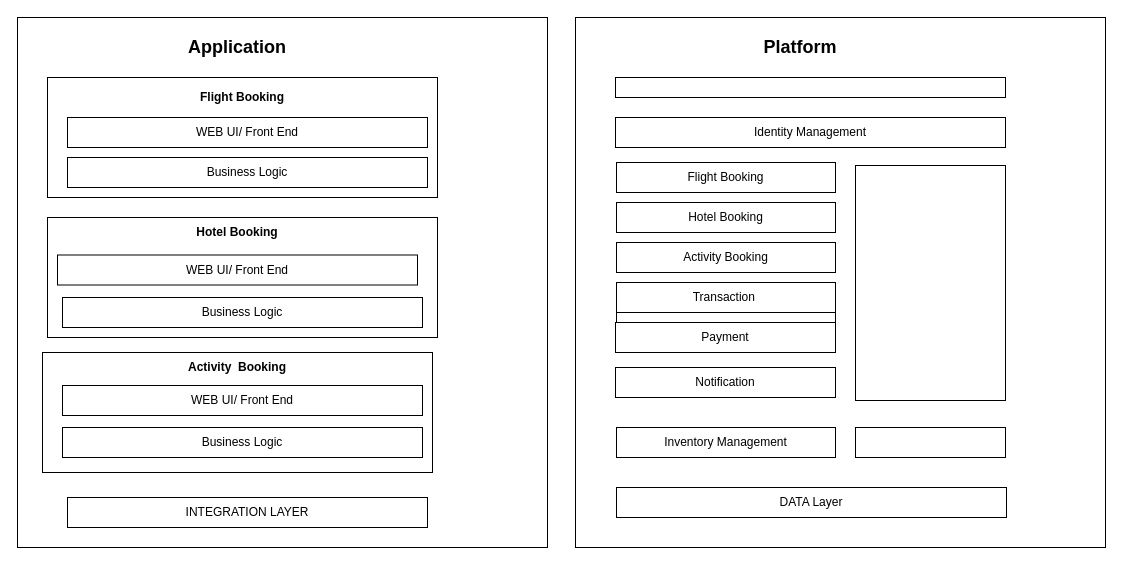
This 1123x565 diagram has some shape labels left out. The centre of each missing label's shape, as x and y in pixels:
API Gateway: [810,87]
Application Admin: [930,442]
User / Customer: [930,282]
